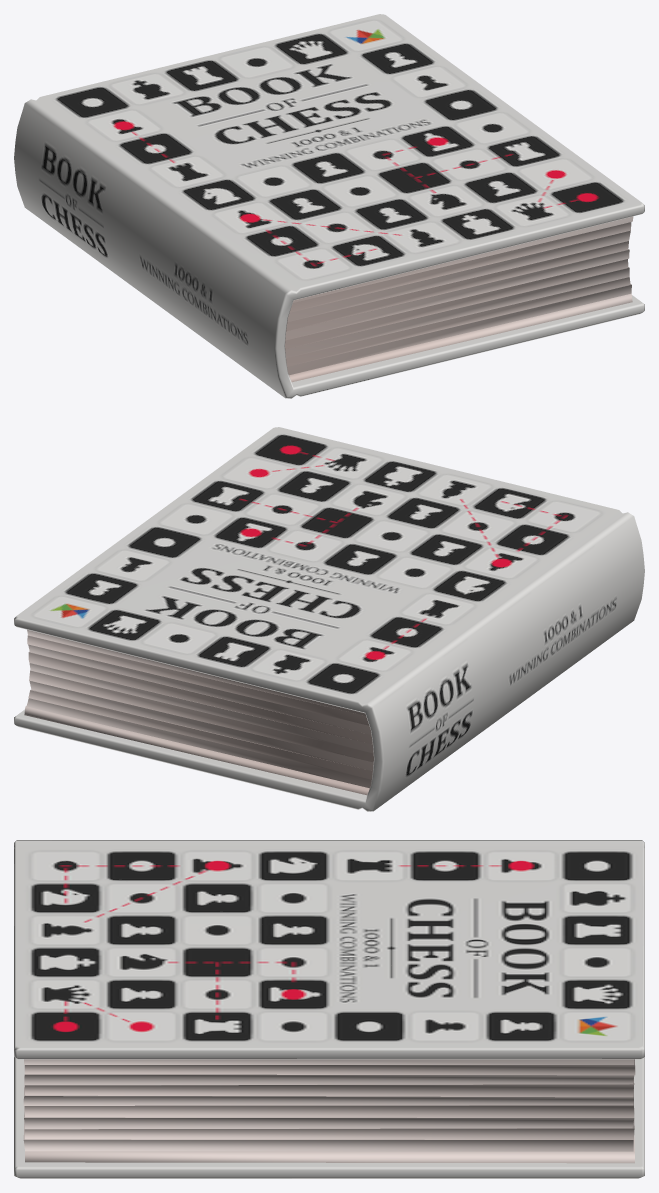
Rendered from book.glb.
The picture shows the model from 3 angles, top to bottom: view 1: azimuth 30°, elevation 25°; view 2: azimuth 150°, elevation 25°; view 3: azimuth 270°, elevation 25°; orthographic projection. The views are drawn at different scales.
Parts seen in each view (by area): view 1: Book_01; view 2: Book_01; view 3: Book_01.
Boxes of the visible parts, left/top/right/bottom form: Book_01: left=14, top=14, right=644, bottom=398; Book_01: left=14, top=427, right=644, bottom=811; Book_01: left=14, top=840, right=644, bottom=1178.
Bounding box in the file's own units: 0.2807 × 0.0789 × 0.344.
Materials: 1 (1 with a texture image).
